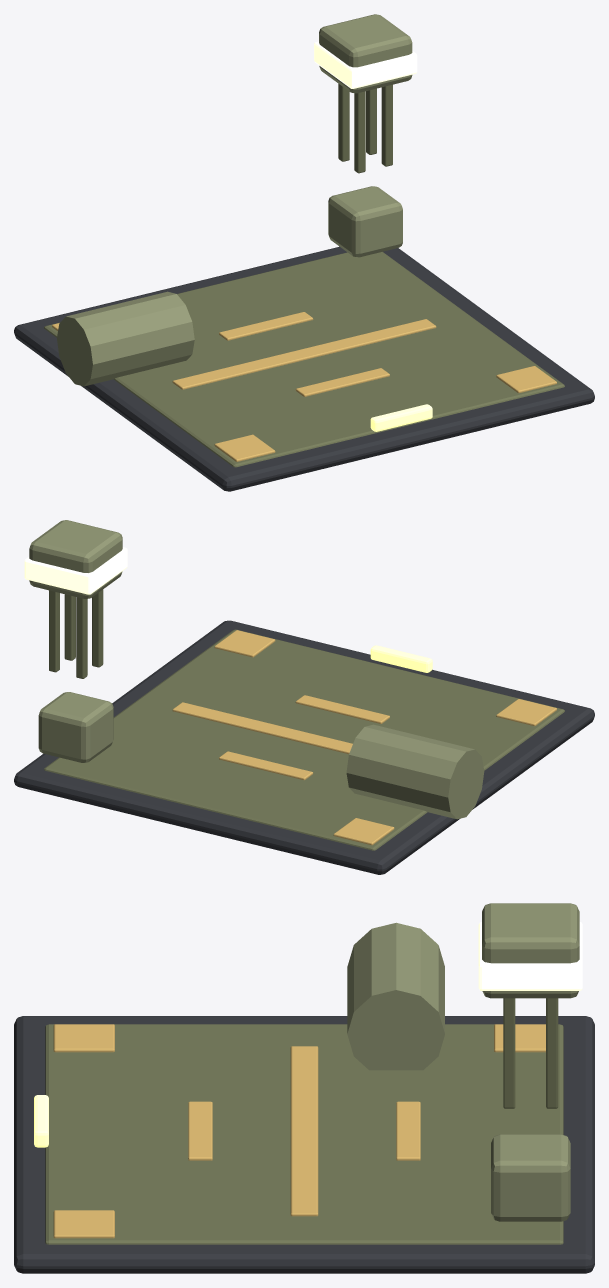
Rendered from com_airfield.glb.
3 renders of one model, top to bottom at view 1: azimuth 30°, elevation 25°; view 2: azimuth 150°, elevation 25°; view 3: azimuth 270°, elevation 25°, orthographic. The views are drawn at different scales.
Visible parts, largest first — view 1: com_airfield; view 2: com_airfield; view 3: com_airfield.
Boxes of the visible parts, x1,y1,x2,y2 form: com_airfield: (14, 14, 594, 491); com_airfield: (14, 520, 594, 874); com_airfield: (14, 903, 594, 1273).
Bounding box in the file's own units: 1.95 × 1.19 × 1.9.
